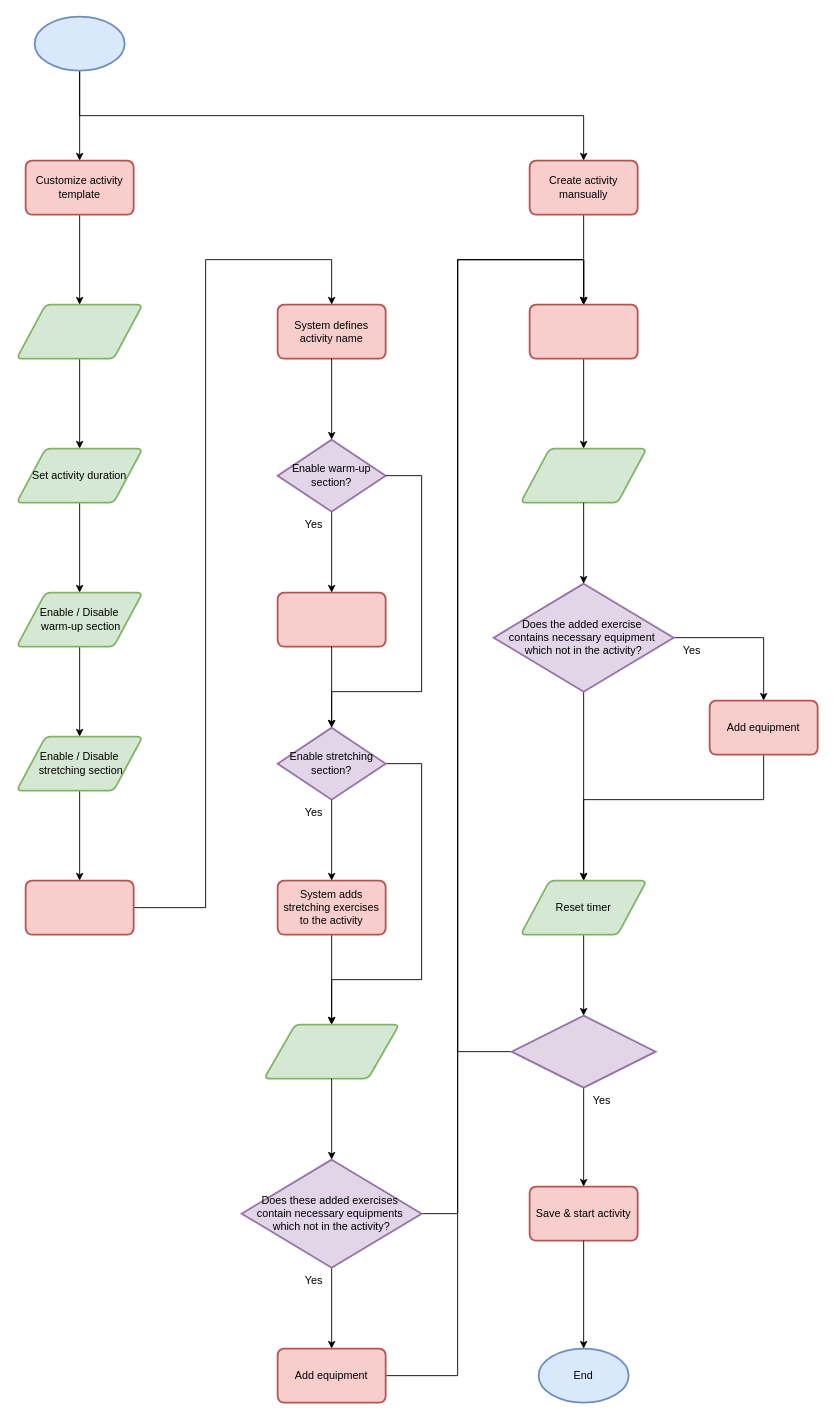
Some shapes in this 833 by 1418 pixel diagram are drawn without their labels. Each missing label, with the box of its shape:
Add / Replace / Delete exercises: (519, 447, 647, 503)
Create activity automatically: (24, 879, 134, 935)
Does the activity contains exercises?: (510, 1014, 656, 1088)
Edit activity: (528, 303, 638, 359)
List added exercises: (263, 1023, 400, 1079)
Select focus areas: (15, 303, 143, 359)
Start: (33, 15, 125, 71)
System adds warm-up exercises to the activity: (276, 591, 386, 647)
